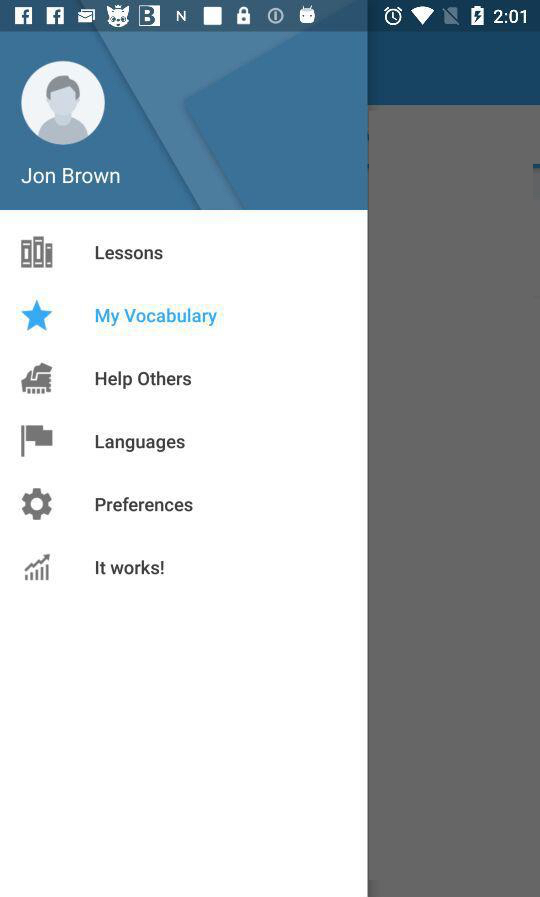Drawer: (1, 32, 368, 897)
Icon: (21, 61, 107, 146), (21, 299, 54, 333), (22, 488, 54, 521), (24, 553, 52, 582)
Image: (21, 236, 55, 270), (21, 424, 54, 458), (21, 362, 54, 396)
Text: (96, 307, 218, 328), (95, 370, 193, 391), (95, 435, 187, 454), (21, 168, 121, 185), (95, 496, 194, 513), (96, 559, 165, 576), (96, 246, 164, 261)
UpperTaskBar: (1, 1, 540, 33)
